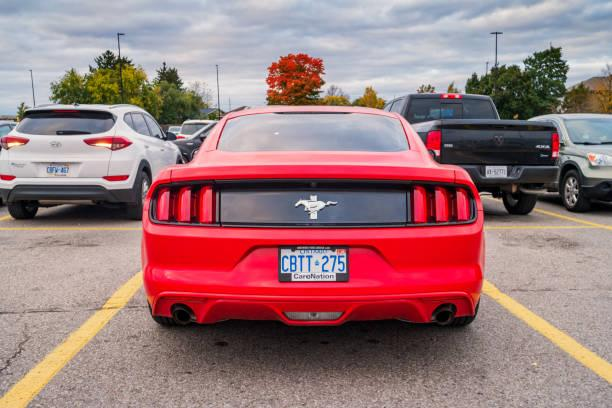licence: (277, 243, 349, 282)
